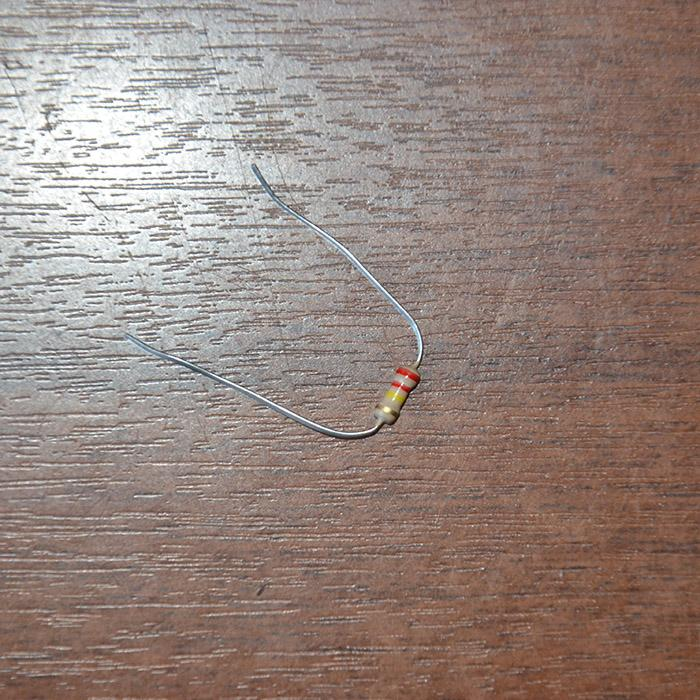resistor: (374, 363, 421, 424)
